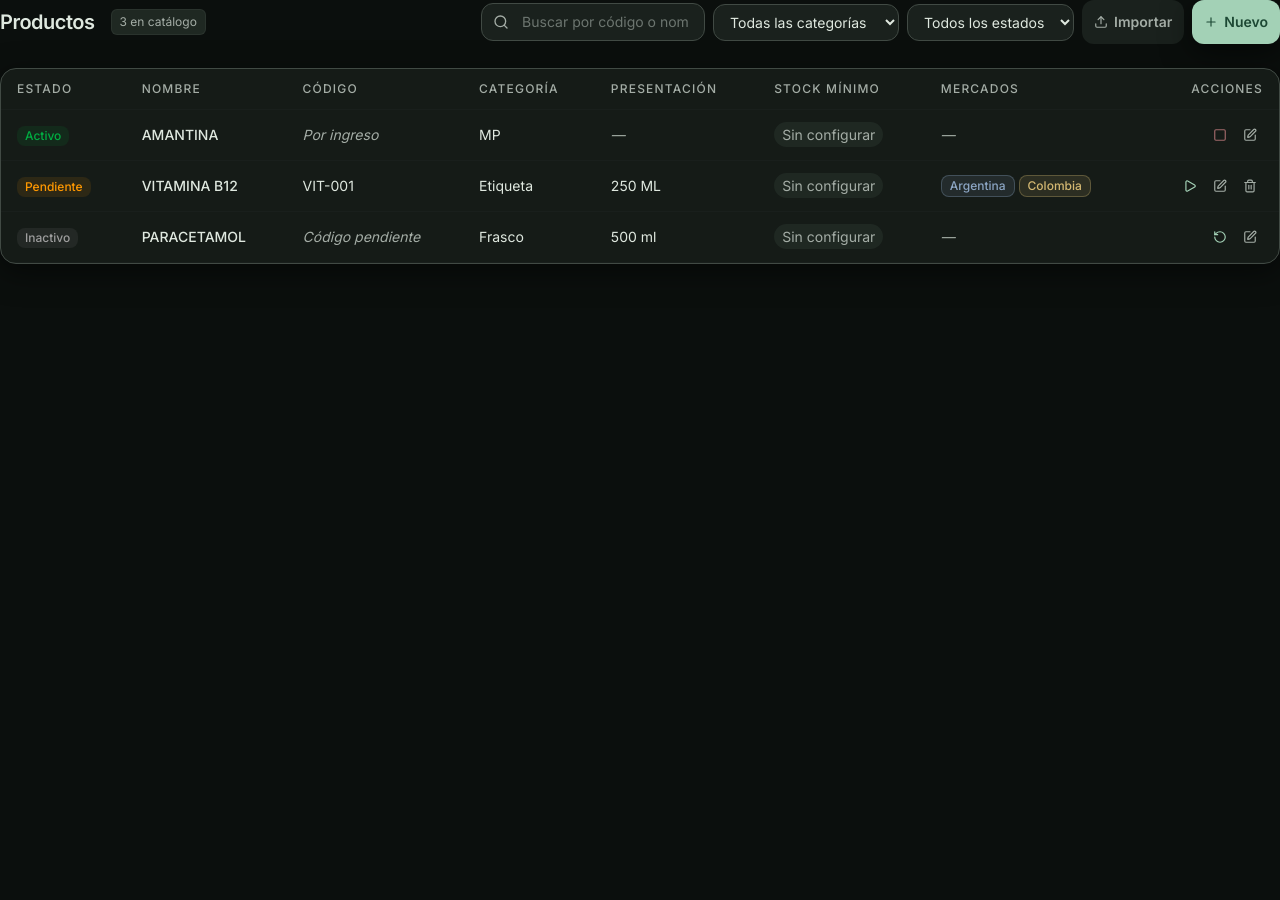
Scenario: ProductosPage › 4.3: Create form conditional fields › frasco category shows presentation but no markets
Click the button "Nuevo" at (1236, 22), box [1192,0,1279,44]
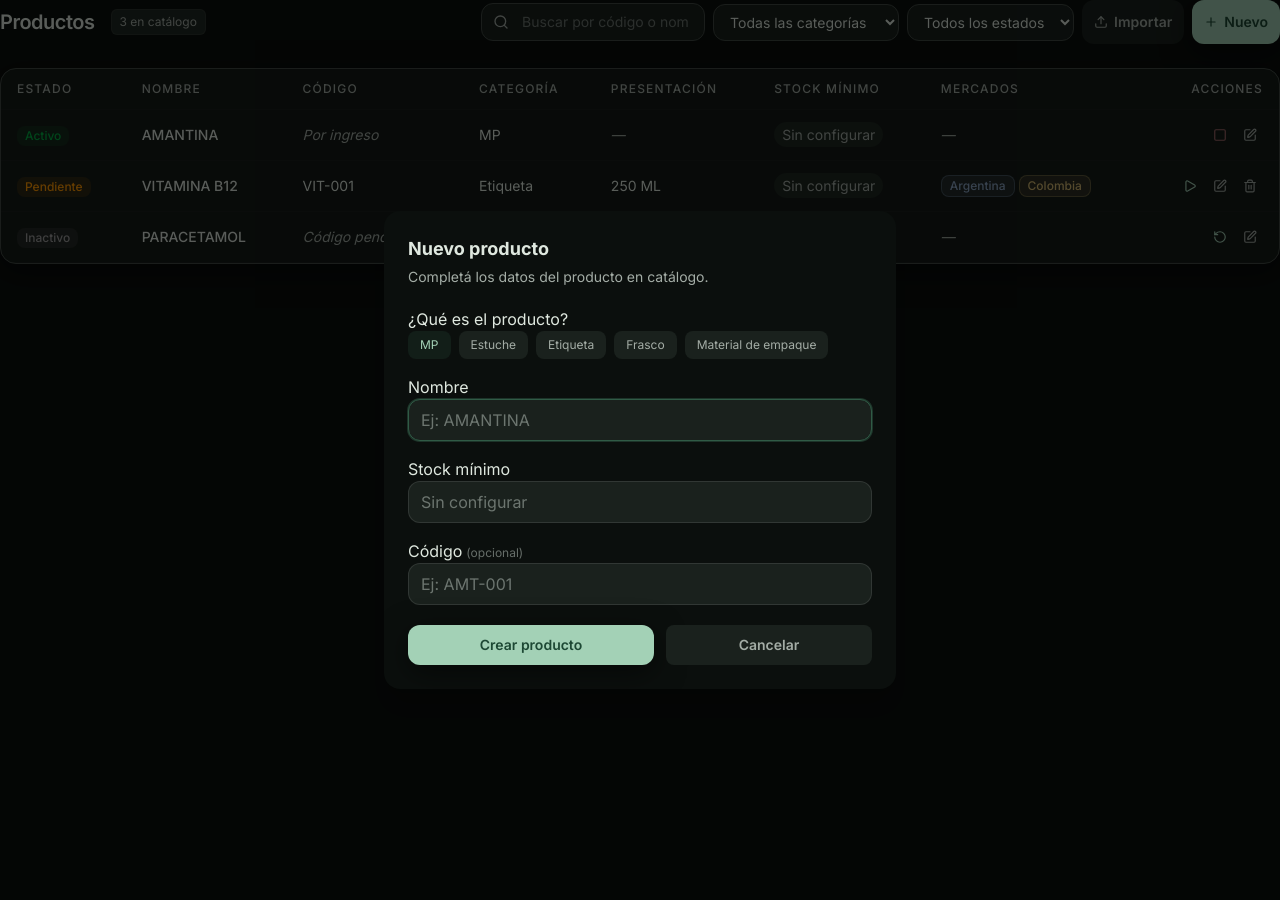
Now the heading "Nuevo producto" is shown, box [408,238,549,259]
Click the button "Frasco" at (646, 345), box [614,331,677,359]
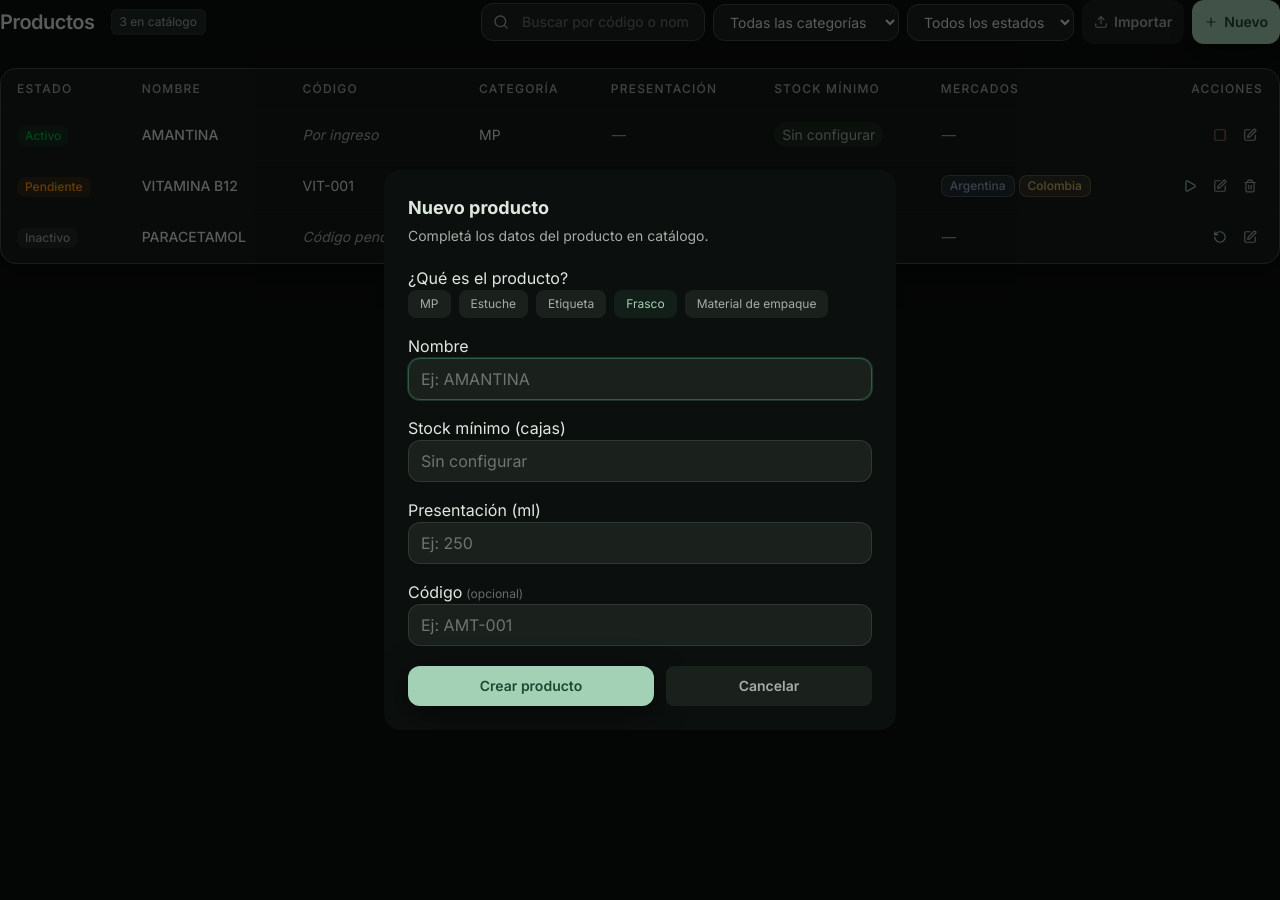
Now the number field labelled "Presentación (ml)" is shown, box [408,522,872,564]
